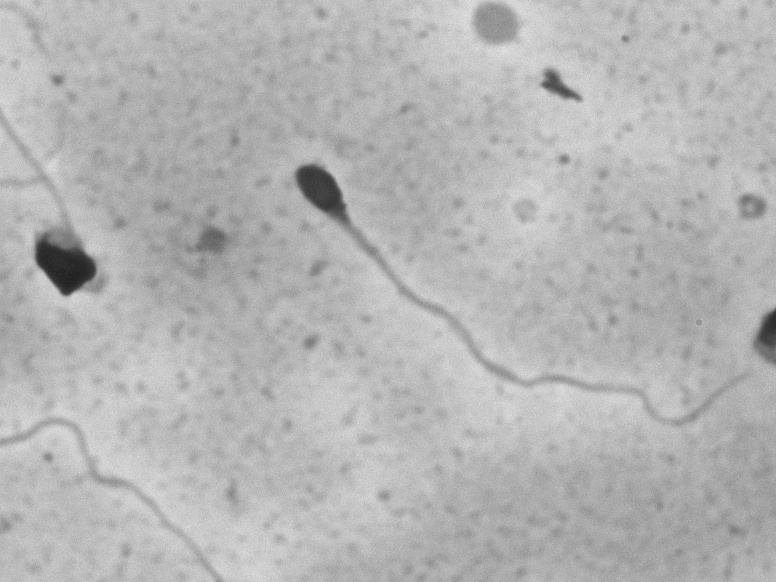Abnormal: (275, 128, 698, 473)
